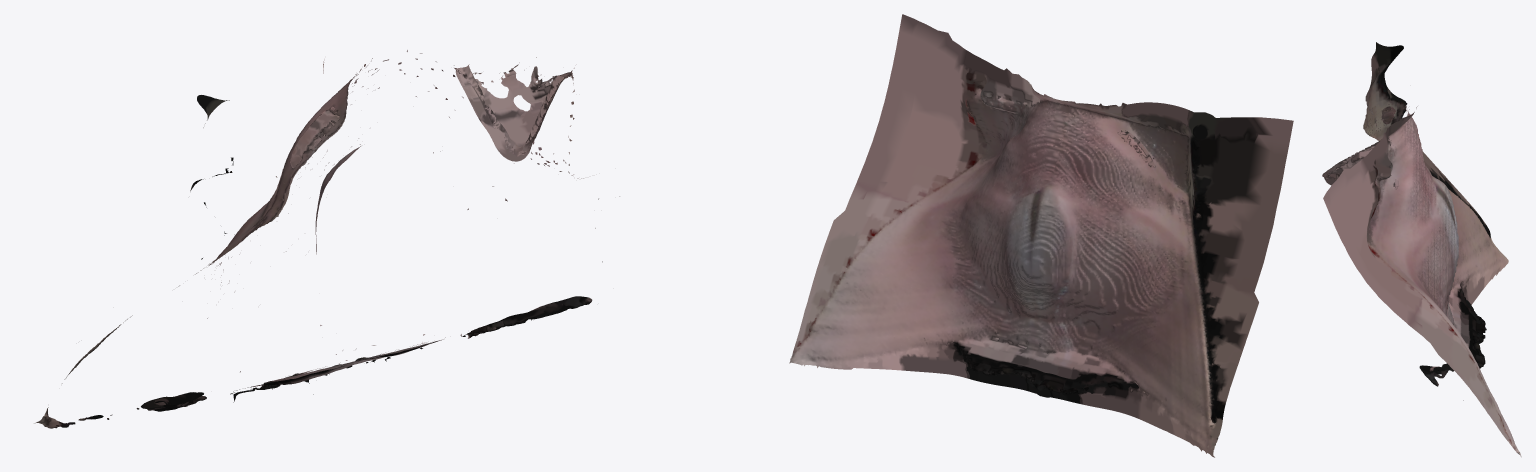
The picture shows the model from 3 angles, left to right: view 1: azimuth 30°, elevation 25°; view 2: azimuth 150°, elevation 25°; view 3: azimuth 270°, elevation 25°; orthographic projection. The views are drawn at different scales.
Bounding box in the file's own units: 0.00152 × 0.000971 × 0.000673.
